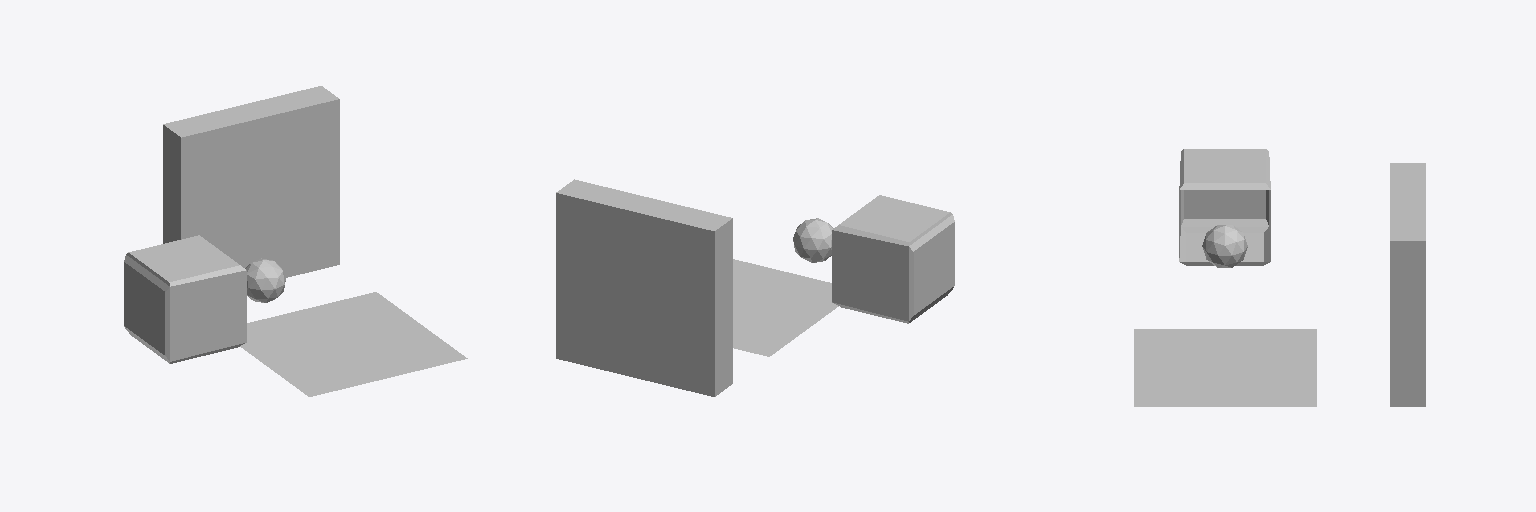
The picture shows the model from 3 angles: view 1: azimuth 30°, elevation 25°; view 2: azimuth 150°, elevation 25°; view 3: azimuth 270°, elevation 25°; orthographic projection.
Visible parts, largest first — view 1: chest, spine, head, leftHand; view 2: chest, head, spine, leftHand; view 3: spine, head, chest, leftHand.
Part boxes in pixels (x1,y1,x2,y2): chest: (163,86,339,277); spine: (240,292,467,396); head: (124,235,246,363); leftHand: (245,258,285,302); chest: (556,179,732,396); head: (832,195,954,323); spine: (733,259,838,356); leftHand: (793,218,833,262); spine: (1134,329,1316,406); head: (1179,149,1270,265); chest: (1390,163,1425,406); leftHand: (1202,225,1247,267).
Size of the model in its own units: 1.75 by 1 by 1.6.